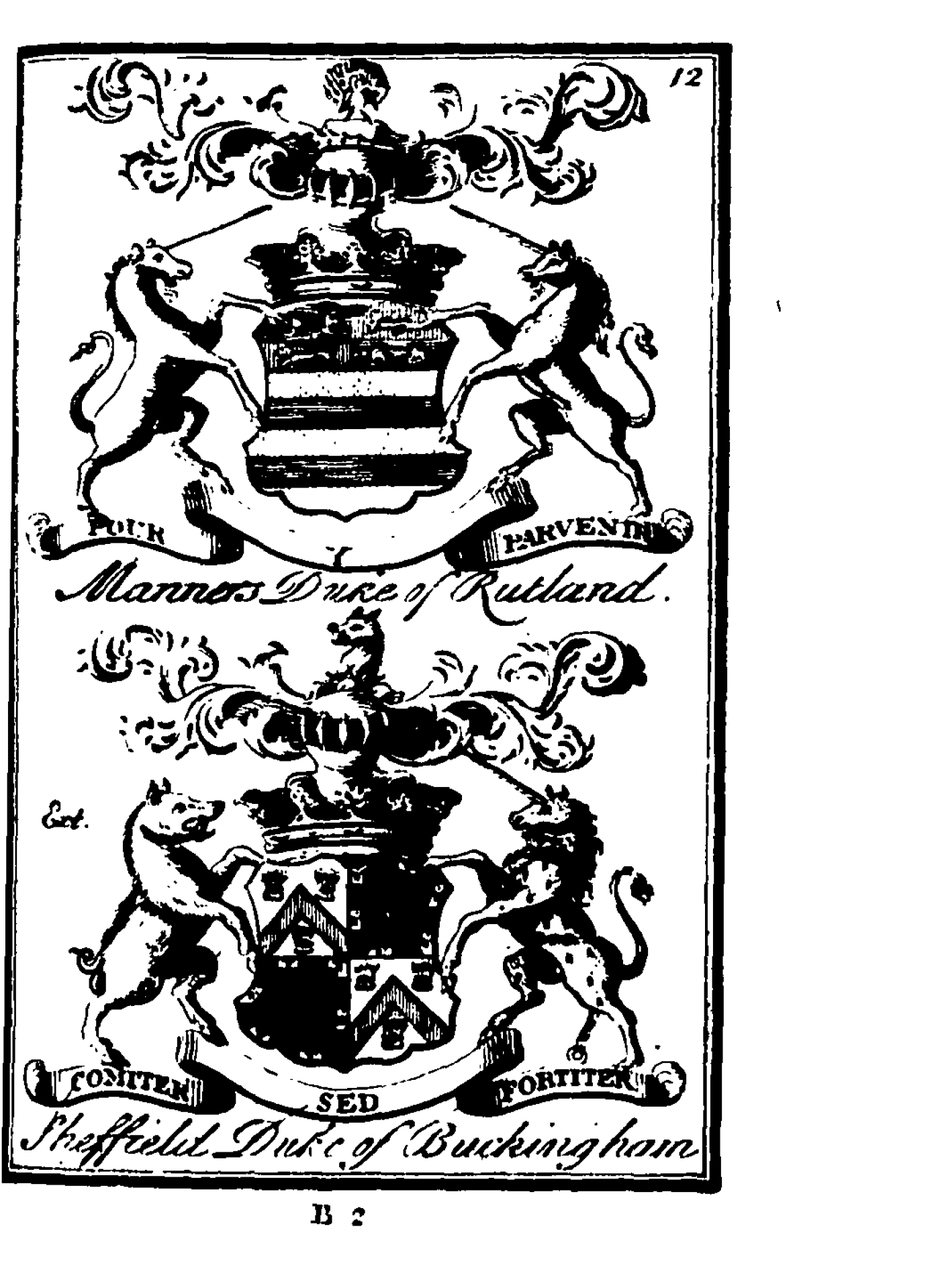coat_of_arms: (23, 614, 719, 1176), (28, 59, 700, 619)
